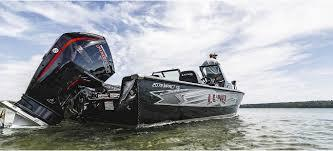fishing boat: (2, 18, 247, 133)
